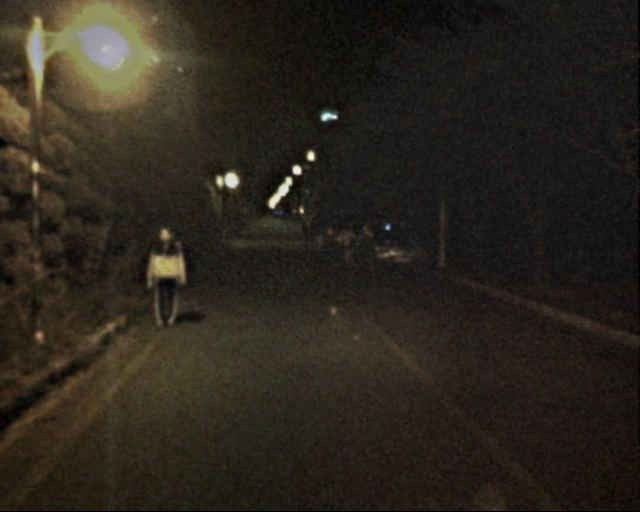person: (148, 221, 192, 328), (339, 225, 357, 270), (301, 219, 324, 249)
